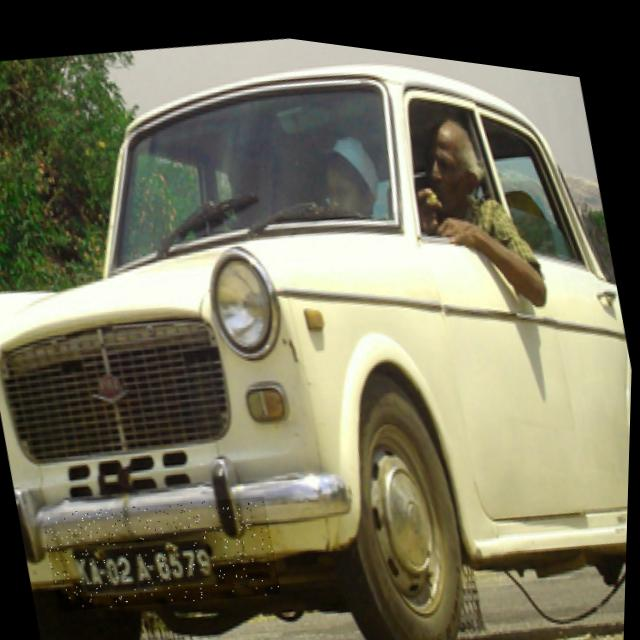license_plate: (42, 465, 286, 632)
